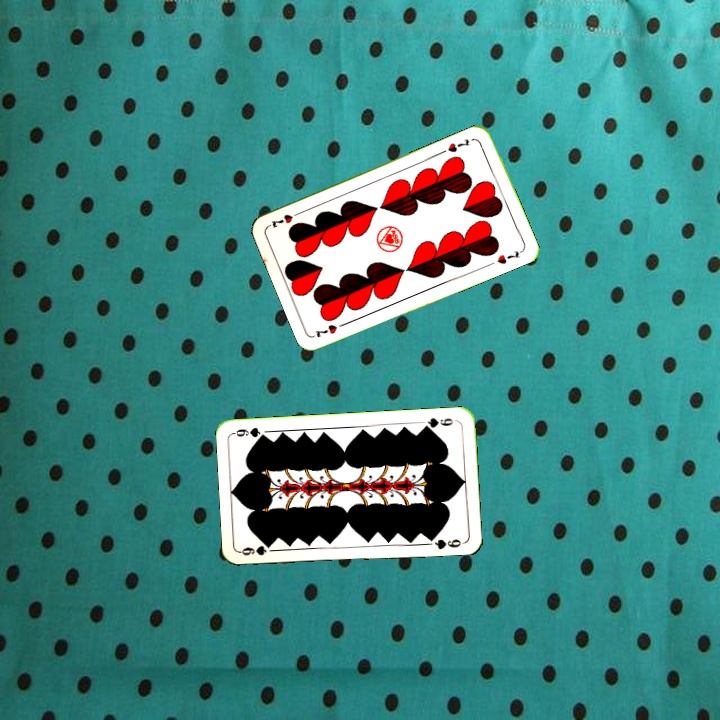G9: (237, 541, 274, 558), (419, 414, 455, 431)
H7: (310, 318, 349, 340), (438, 135, 473, 156)
